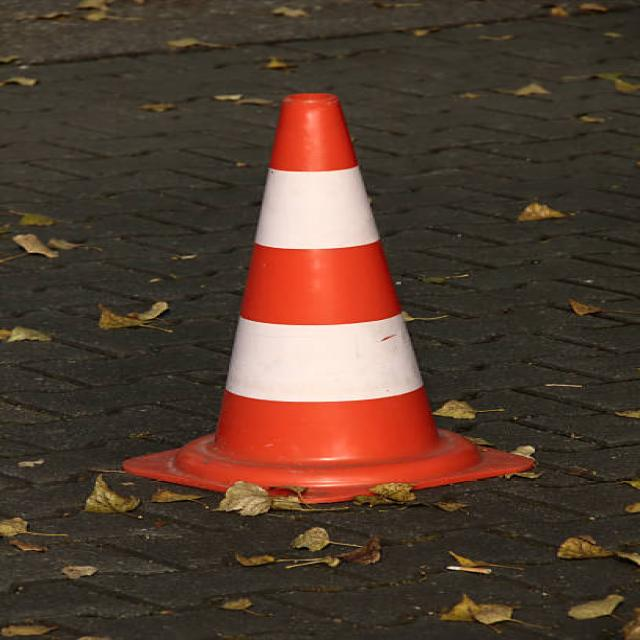Traffic Cone: (83, 45, 578, 525)
